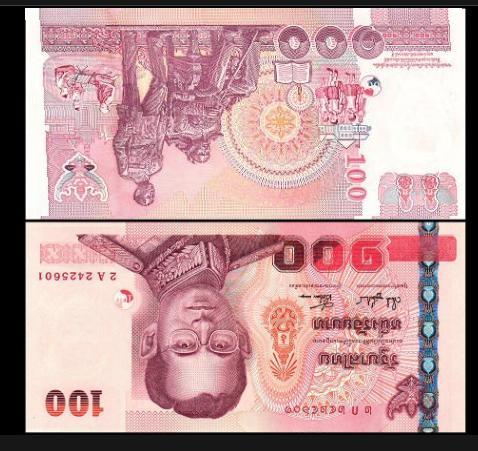100BahtTai: (26, 9, 463, 217)
